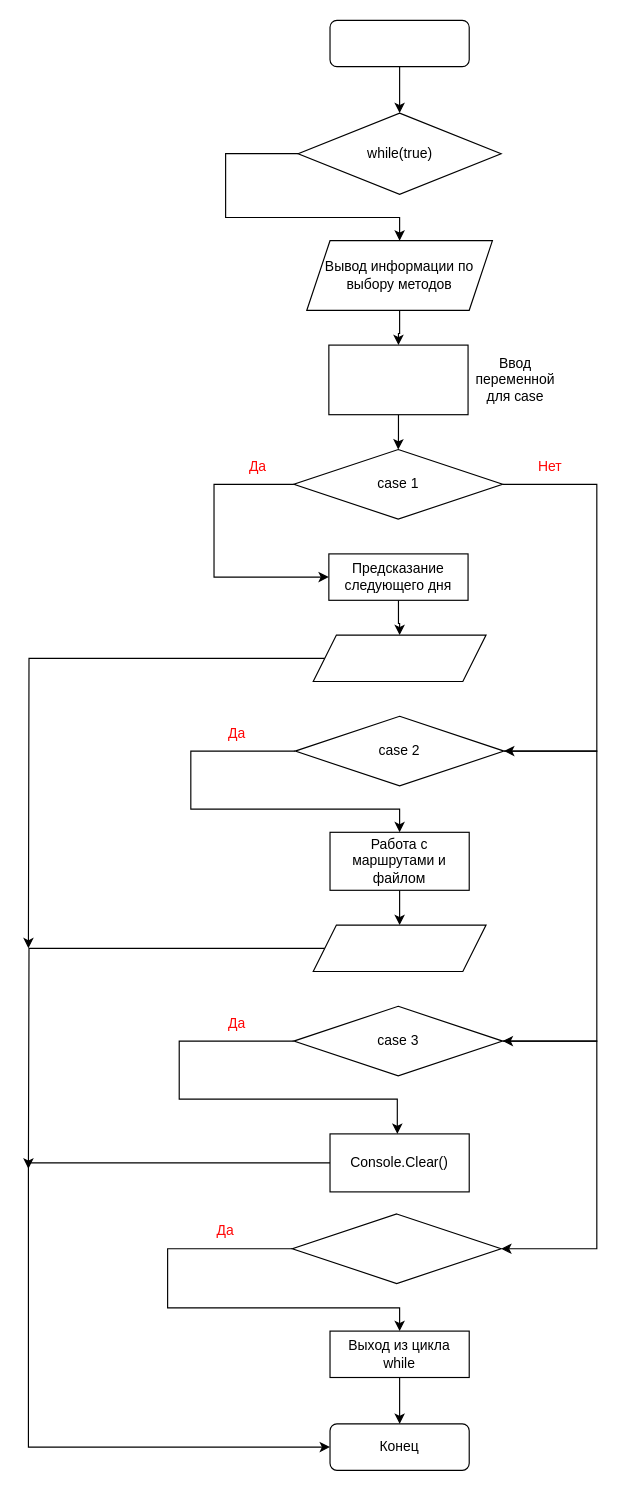
The diagram is 626 pixels wide and 1491 high, and some of its shapes have lost their labels. The centre of each missing label's shape, as x and y in pixels:
"case 4" goes at pixel 396 1248.
"valueCase" goes at pixel 398 379.
"Вывод дд/мм/гг" goes at pixel 399 658.
"Вывод маршрута по выбранной остановке" goes at pixel 399 947.
"Начало" goes at pixel 399 43.
